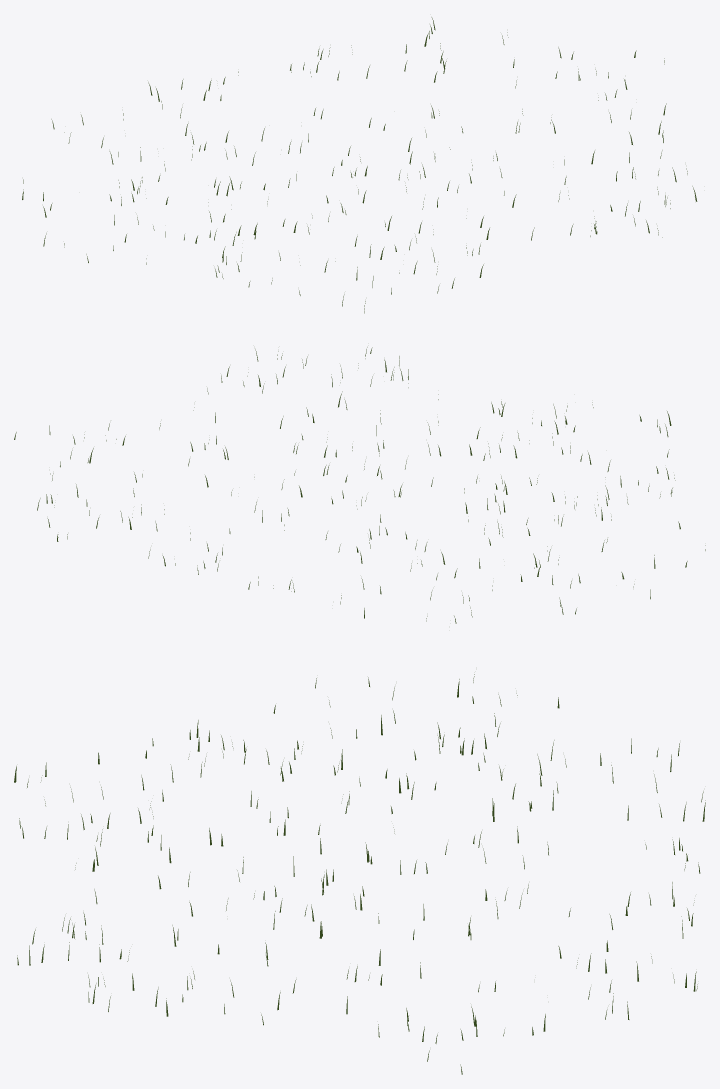
The picture shows the model from 3 angles, top to bottom: view 1: azimuth 30°, elevation 25°; view 2: azimuth 150°, elevation 25°; view 3: azimuth 270°, elevation 25°; orthographic projection. The views are drawn at different scales.
Parts seen in each view (by area): view 1: GrassPatch; view 2: GrassPatch; view 3: GrassPatch.
Part boxes in pixels (x1=…): GrassPatch: x1=22, y1=17, x2=697, y2=313; GrassPatch: x1=14, y1=347, x2=705, y2=623; GrassPatch: x1=14, y1=674, x2=705, y2=1074.
Bounding box in the file's own units: 19.42 × 0.4913 × 14.32.
